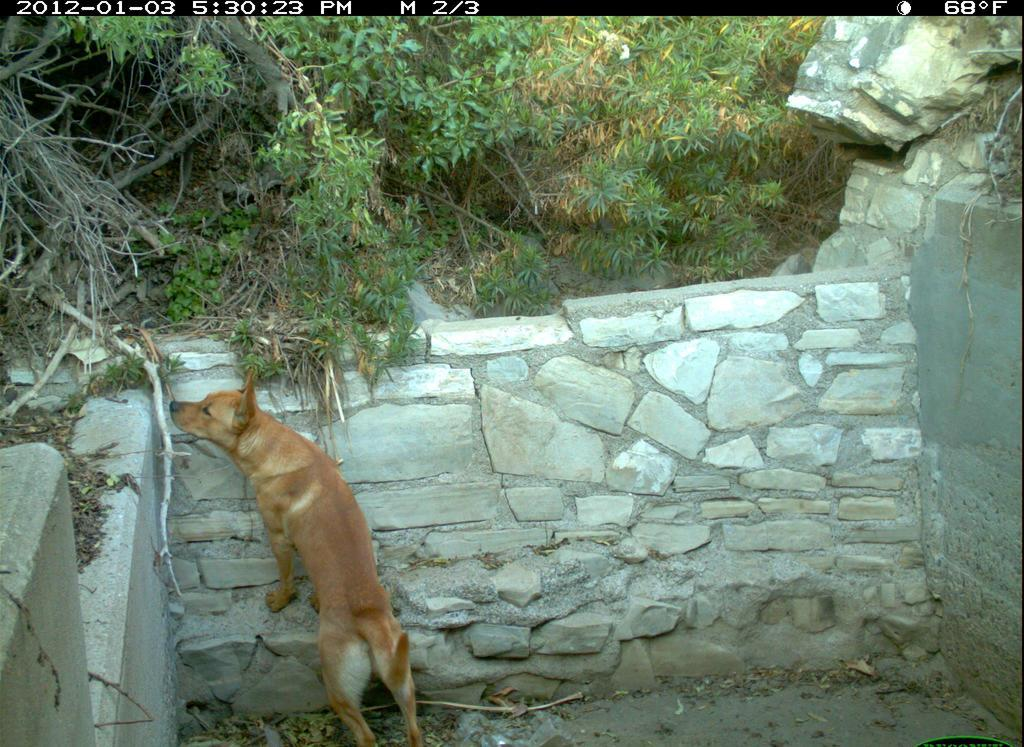dog: (163, 356, 437, 747)
